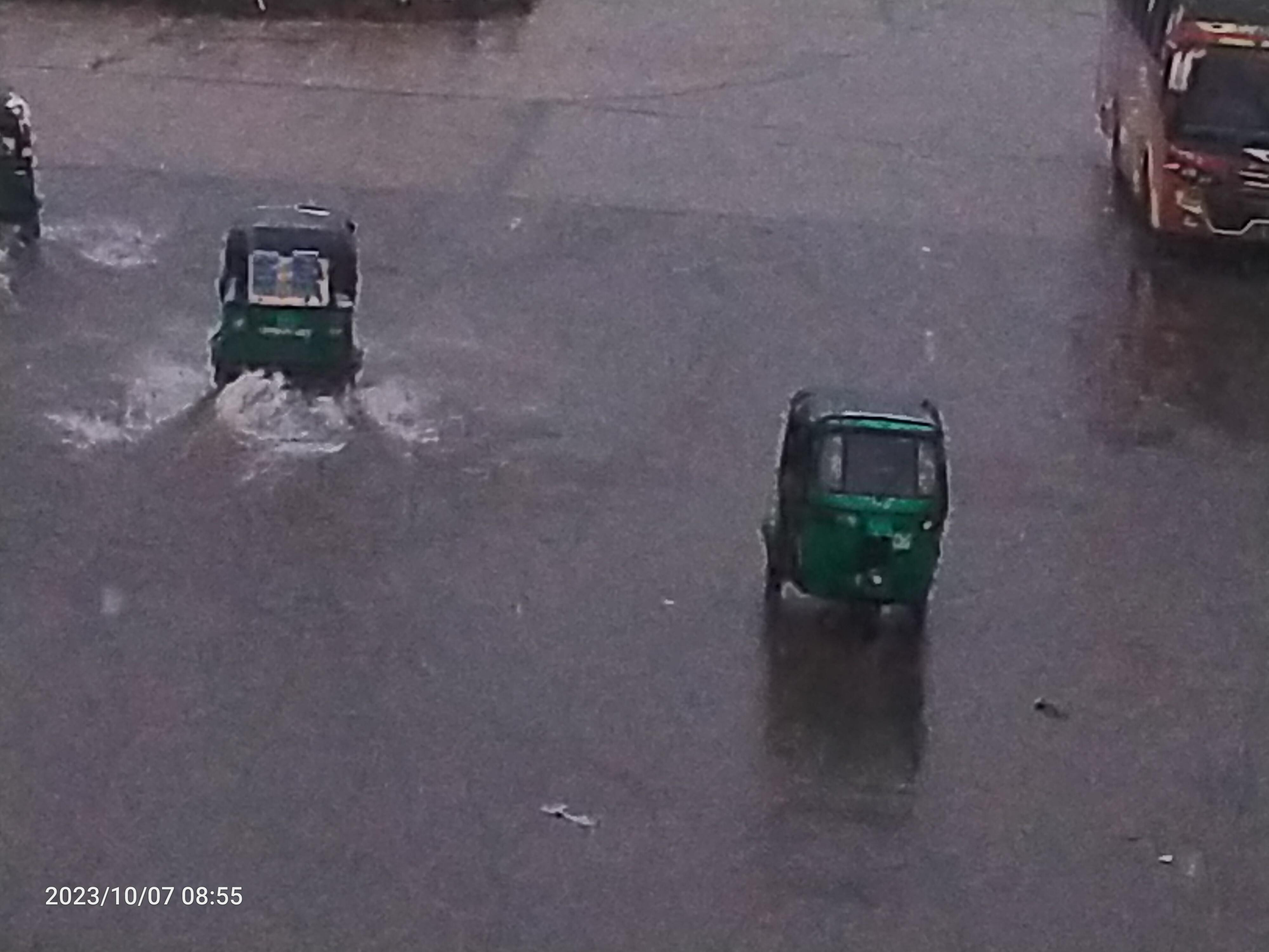Bus: (1024, 0, 1269, 293)
